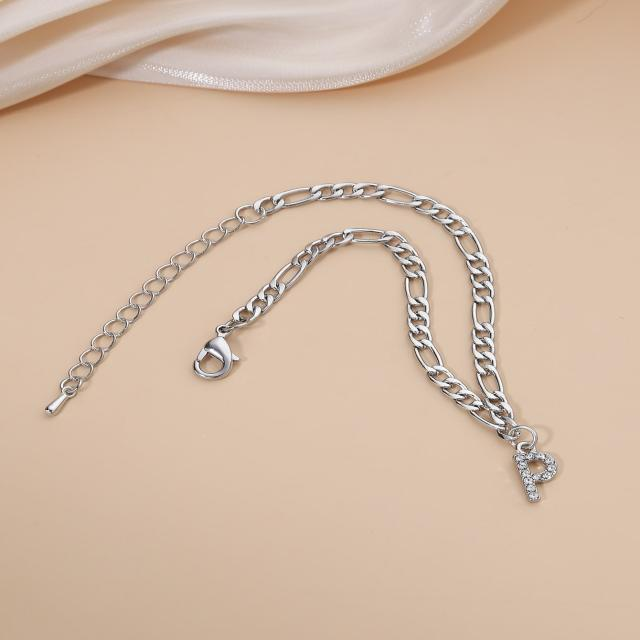bracelet: (6, 133, 622, 534)
